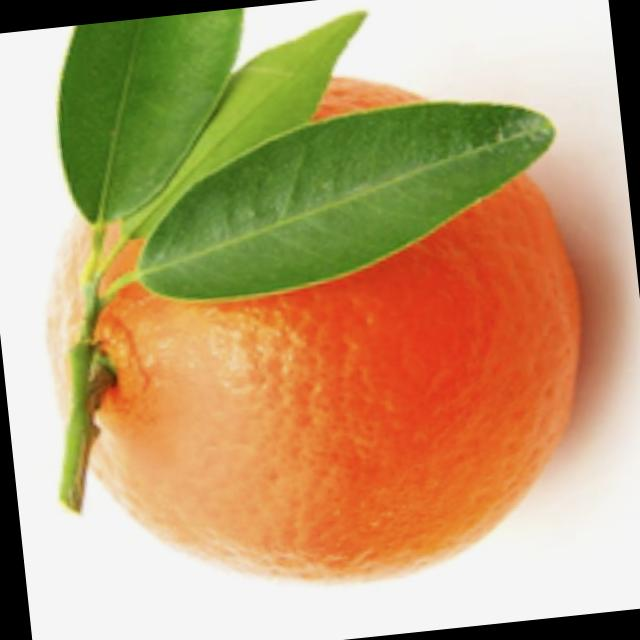orange: (7, 8, 612, 618)
